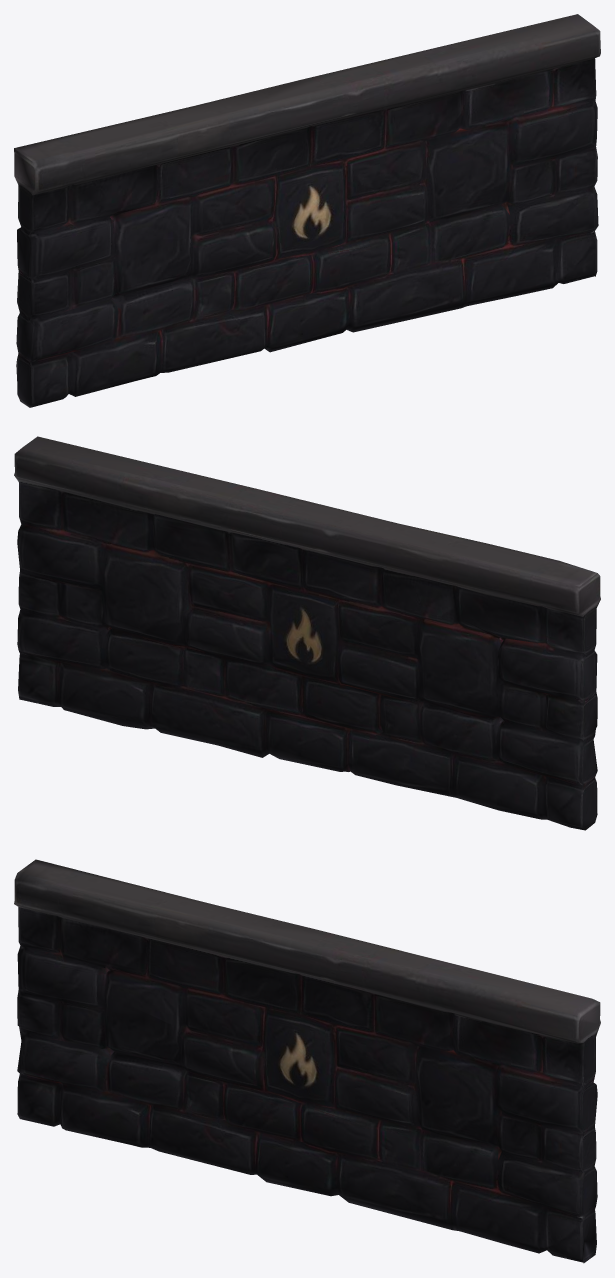
Rendered from el_muro_fogo.glb.
3 views of the same model, one above another, from view 1: azimuth 30°, elevation 25°; view 2: azimuth 150°, elevation 25°; view 3: azimuth 330°, elevation 25° (orthographic).
Parts seen in each view (by area): view 1: baixa; view 2: baixa; view 3: baixa.
Part boxes in pixels (x1=…): baixa: x1=14, y1=14, x2=600, y2=407; baixa: x1=14, y1=436, x2=600, y2=830; baixa: x1=14, y1=859, x2=600, y2=1263.
Bounding box in the file's own units: 1 × 0.4302 × 0.0729.
1 material, 1 textured.
